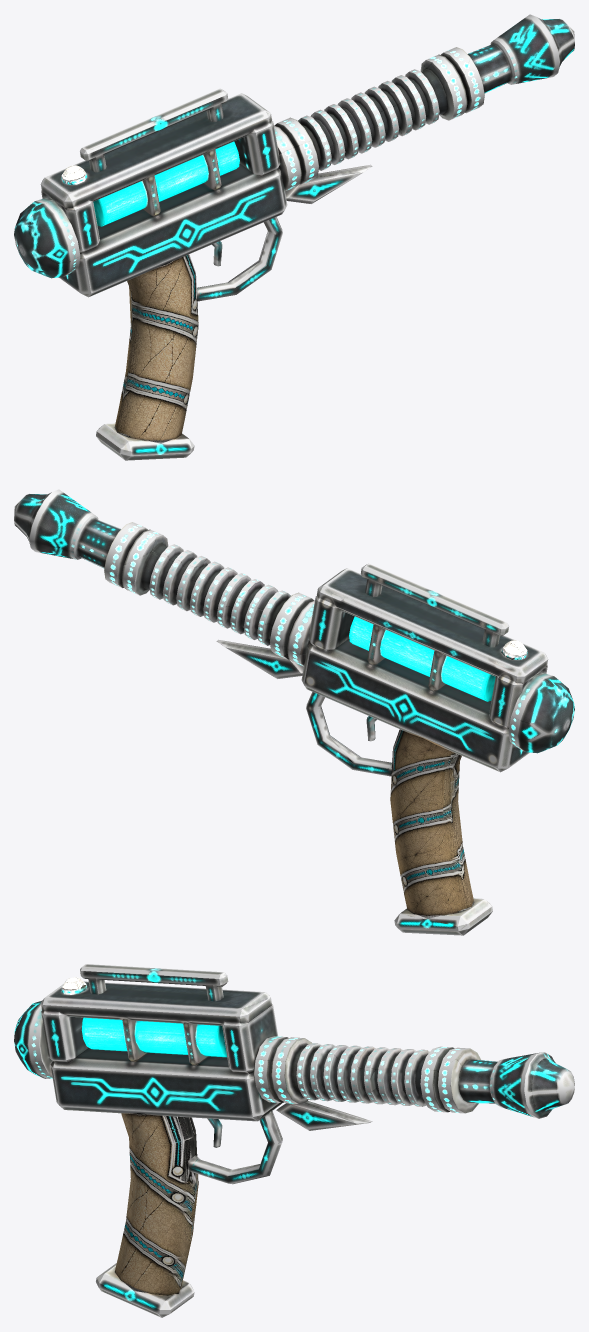
Rendered from w_blaster_t4.glb.
3 renders of one model, top to bottom at view 1: azimuth 30°, elevation 25°; view 2: azimuth 150°, elevation 25°; view 3: azimuth 330°, elevation 25°, orthographic.
Parts seen in each view (by area): view 1: w_blaster; view 2: w_blaster; view 3: w_blaster.
Boxes of the visible parts, box(x1,y1,x2,y2) form: w_blaster: box(14, 14, 574, 460); w_blaster: box(14, 489, 574, 935); w_blaster: box(14, 964, 574, 1317).
Bounding box in the file's own units: 25.08 × 15.03 × 3.12.
Materials: 1 (1 with a texture image).
